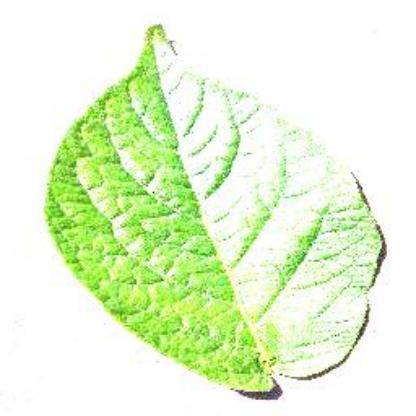Healthy-plant: (38, 18, 384, 396)
